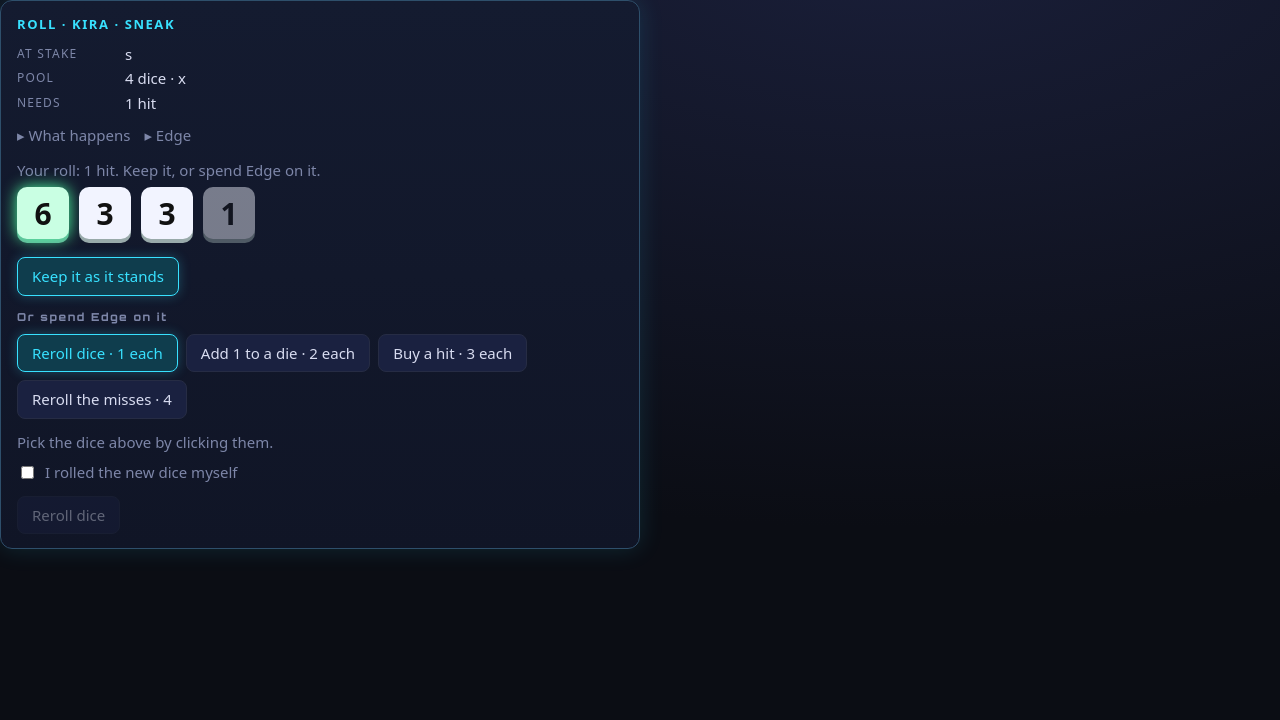
Test: a roll that is held › will not add 1 to a 6, and says so before anything is sent
The width and height of the screenshot is (1280, 720).
Click the radio button labelled "Add 1 to a die · 2 each" at point(278, 353), box [186,334,370,372]
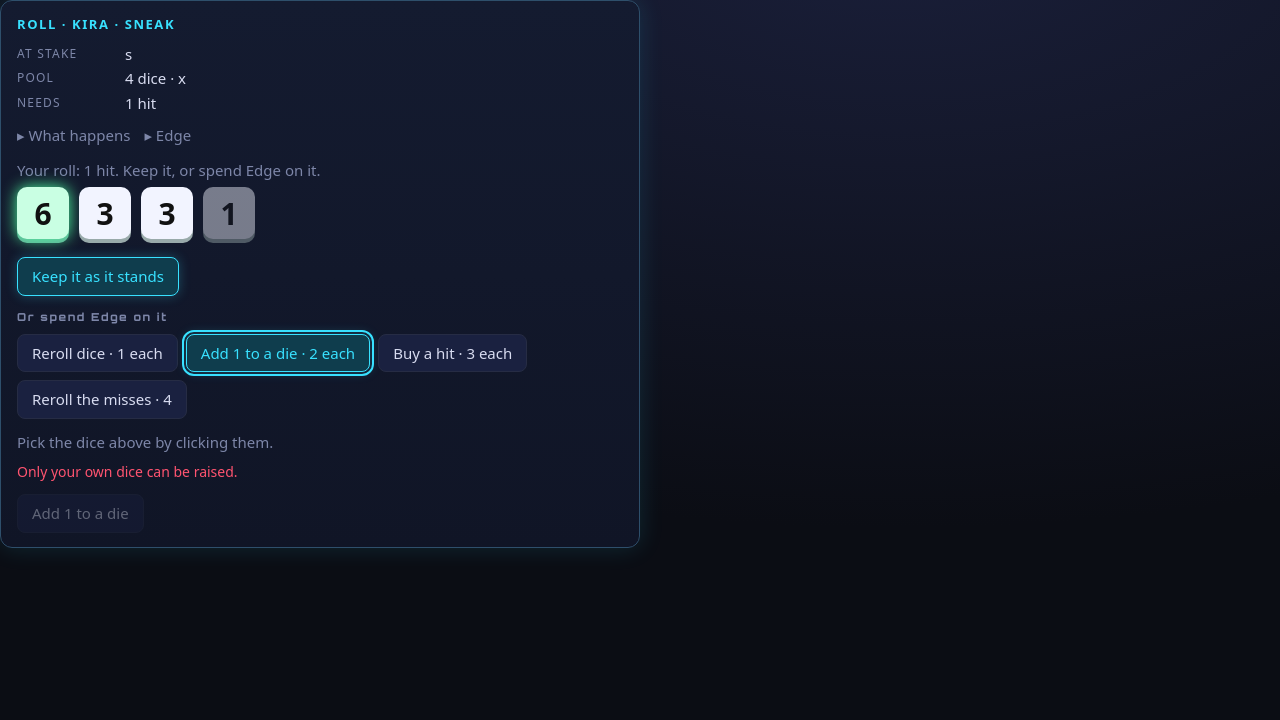
Click the button named "your die 1, showing 6" at point(43, 213), box [17,187,69,239]
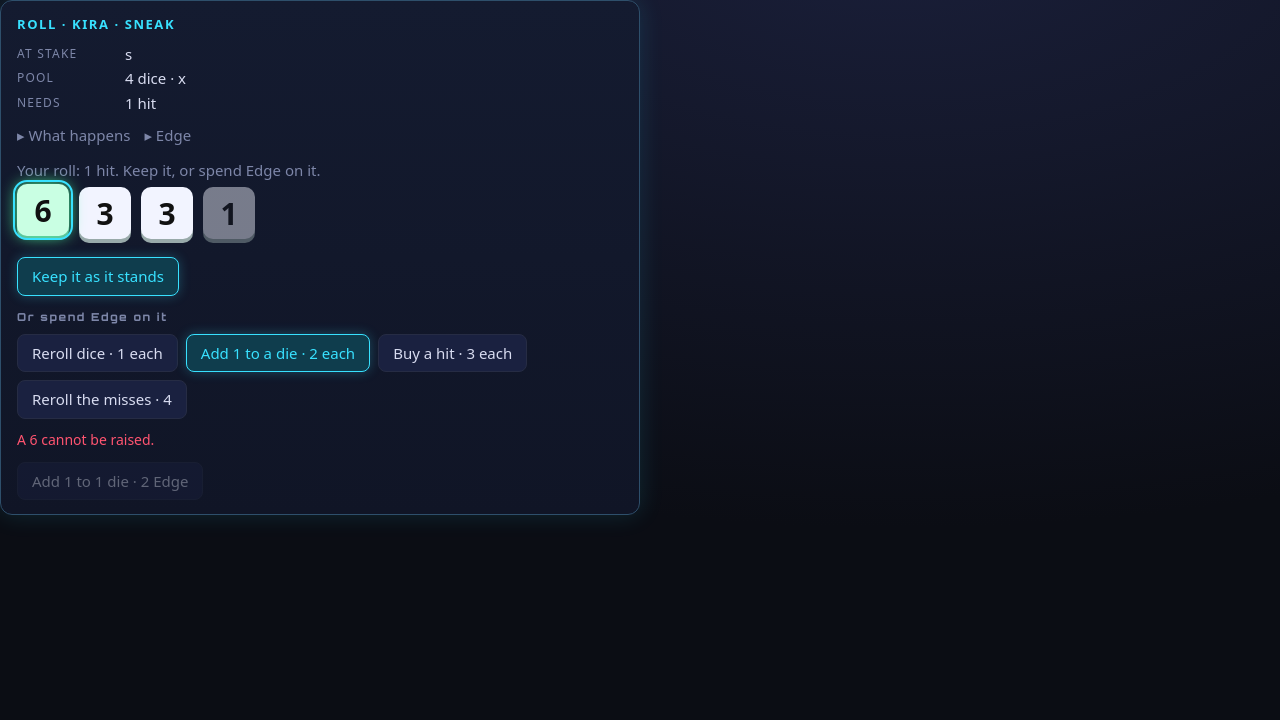
Expected: the button "Add 1 to 1 die · 2 Edge" is disabled, [17,462,203,500]
Now the message reads "A 6 cannot be raised.", box [17,430,154,448]
